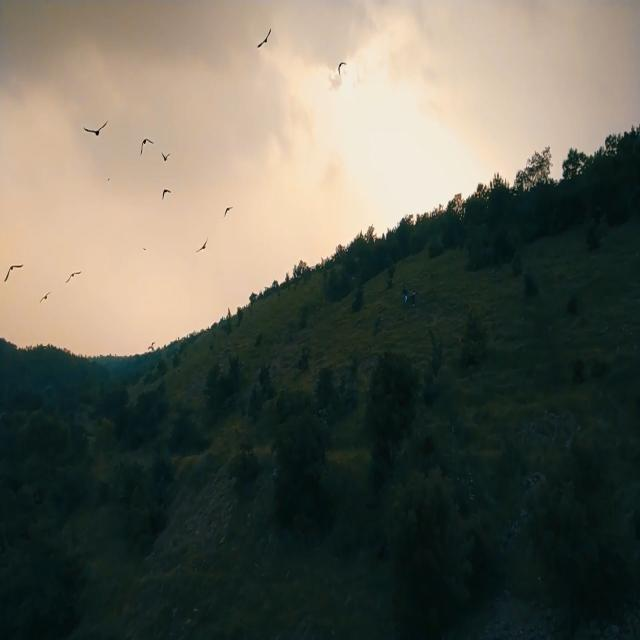bird: (80, 119, 111, 145), (249, 22, 277, 50), (1, 260, 26, 286), (64, 264, 85, 288), (337, 52, 351, 83), (135, 132, 155, 153), (37, 289, 52, 308), (158, 186, 172, 206), (194, 240, 210, 255), (222, 198, 232, 220), (159, 150, 171, 162)
